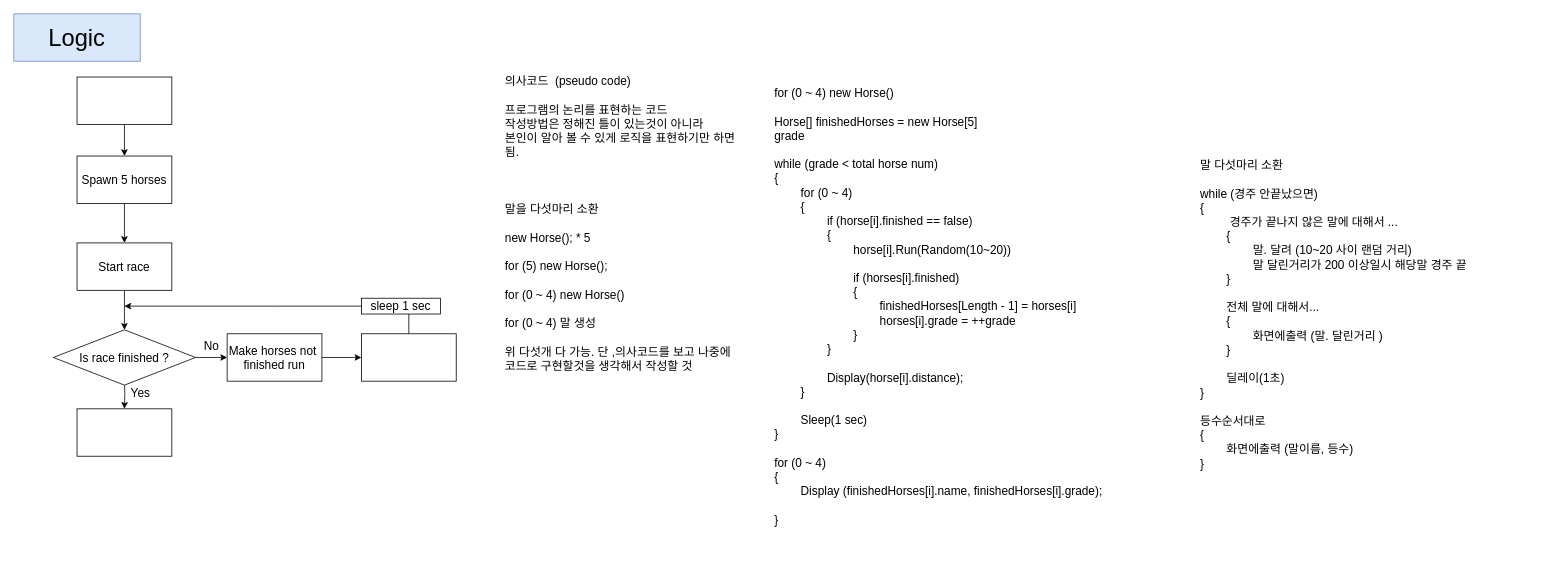
Some shapes in this 1560 by 565 pixel diagram are drawn without their labels. Here are the shapes that lost their labels. From the top down, the box of each, then its label:
(76, 76, 172, 124): Start
(361, 333, 456, 381): Display distance of every single horse
(76, 408, 172, 456): Display horses' grade
